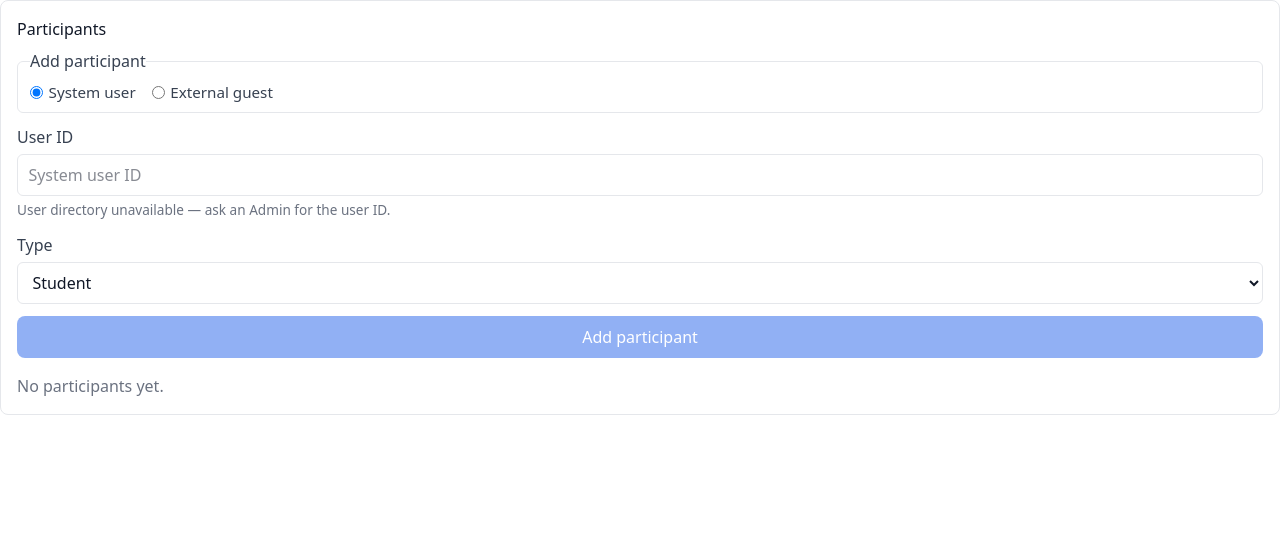
Test case: ParticipantsSection › adds an external guest through the external mode
This screenshot has width=1280, height=559.
Expected: the button with test id "participant-add" is disabled, x1=17 y1=316 x2=1263 y2=358
Click the radio button with test id "participant-mode-external" at [158, 92], box x1=152 y1=86 x2=165 y2=99
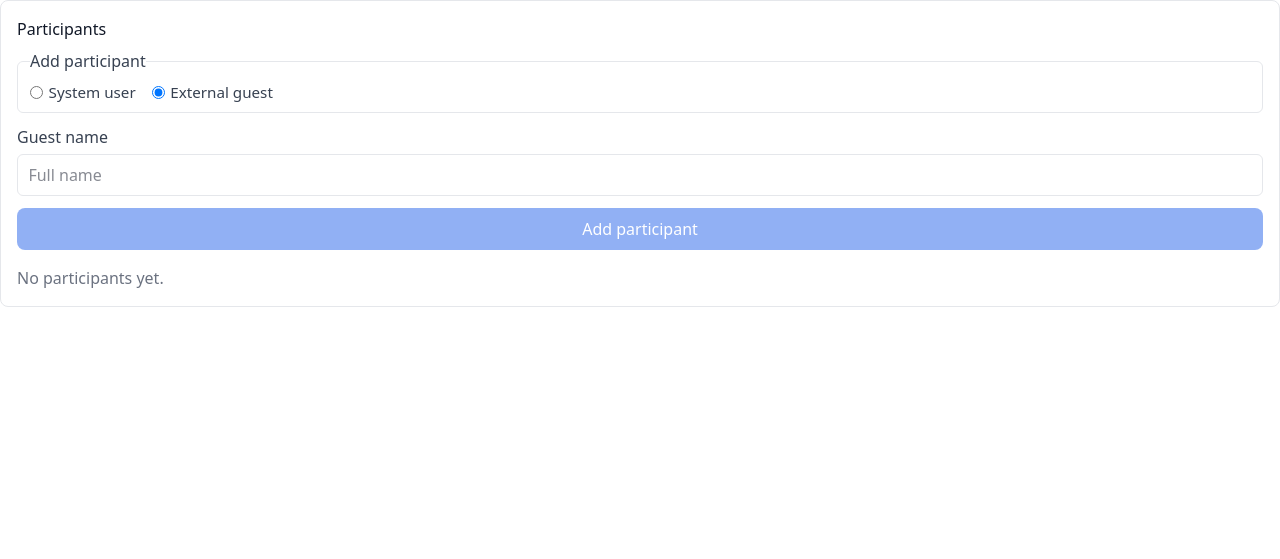
Type "Jane Guest" into the field with test id "participant-external-name" at [640, 175], box x1=17 y1=154 x2=1263 y2=196
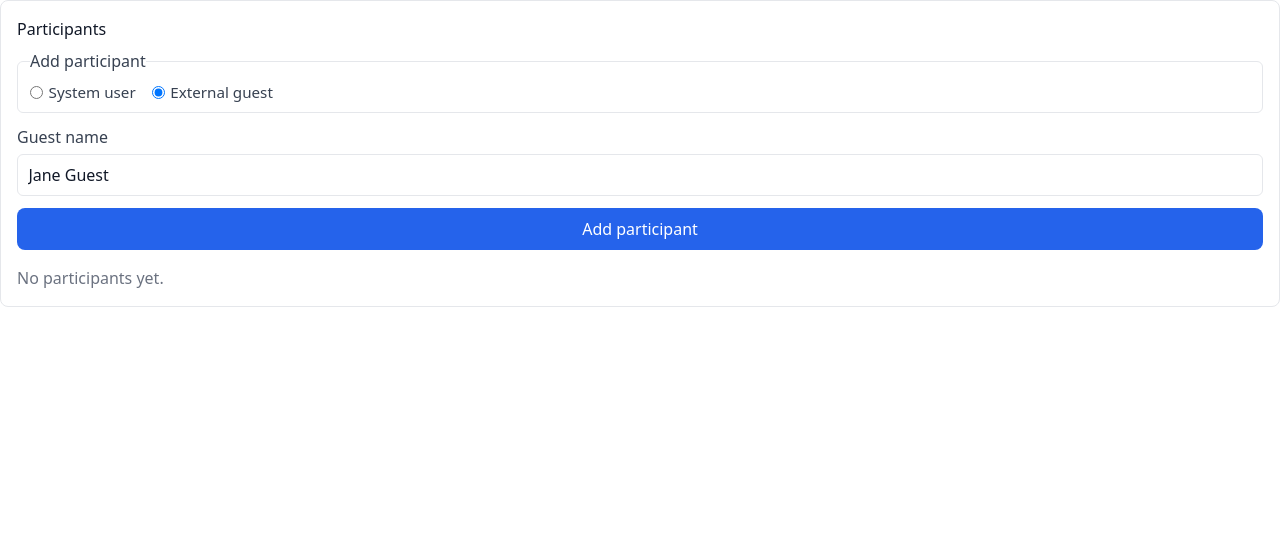
Now the button with test id "participant-add" is enabled, box x1=17 y1=208 x2=1263 y2=250
Submit the form with test id "participant-add-form", box x1=17 y1=49 x2=1263 y2=250
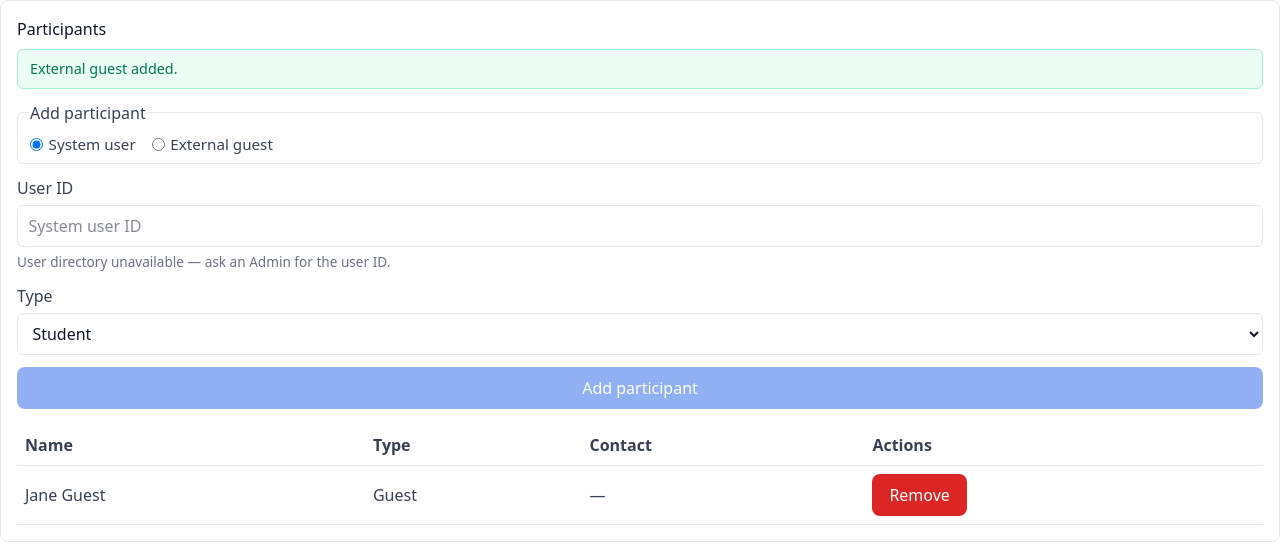
Now the message with test id "participants-notice" shows "External guest added", box x1=30 y1=59 x2=178 y2=78
Now the text "Jane Guest" is shown, box x1=17 y1=466 x2=365 y2=525
